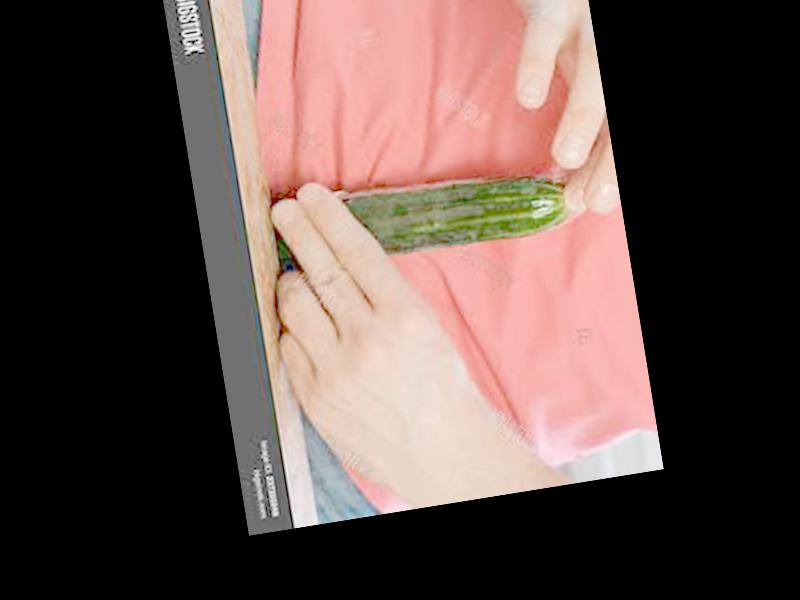Cucumber: (338, 160, 571, 265)
